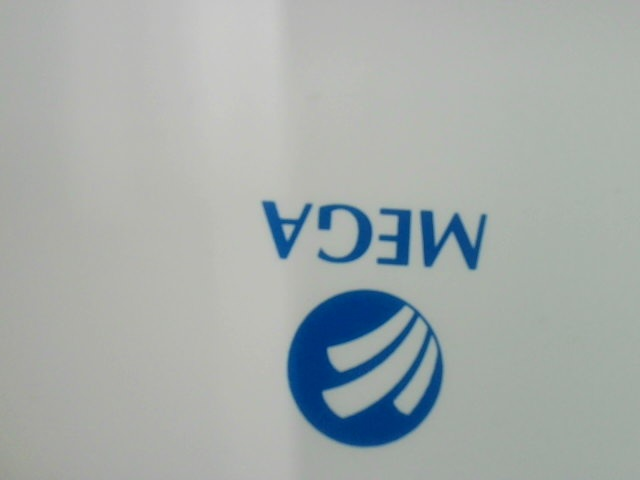AM_ZTEMEGA: (244, 184, 521, 456)
